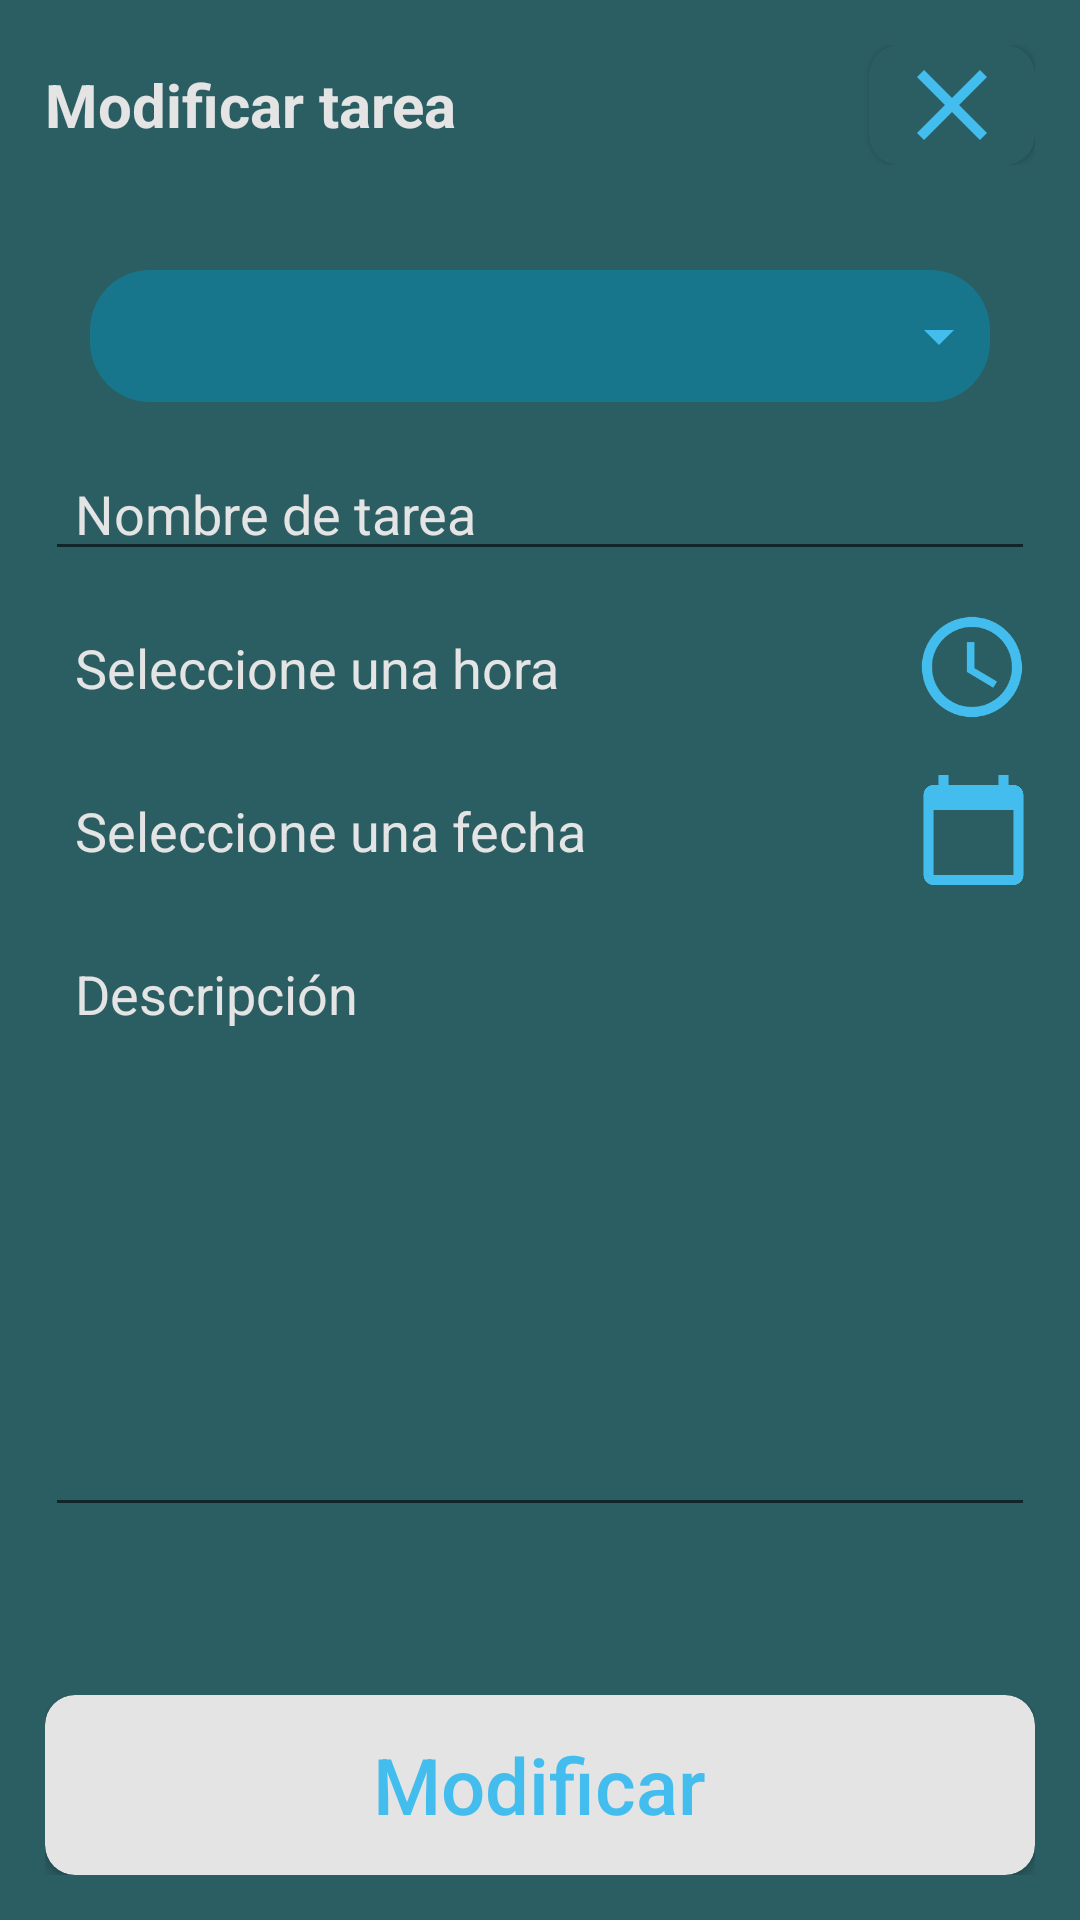

Screen size 1080px x 1920px. Icon name, then its center in pixels as (x,y):
calendar: (973,830)
close: (952,105)
time: (972,667)
